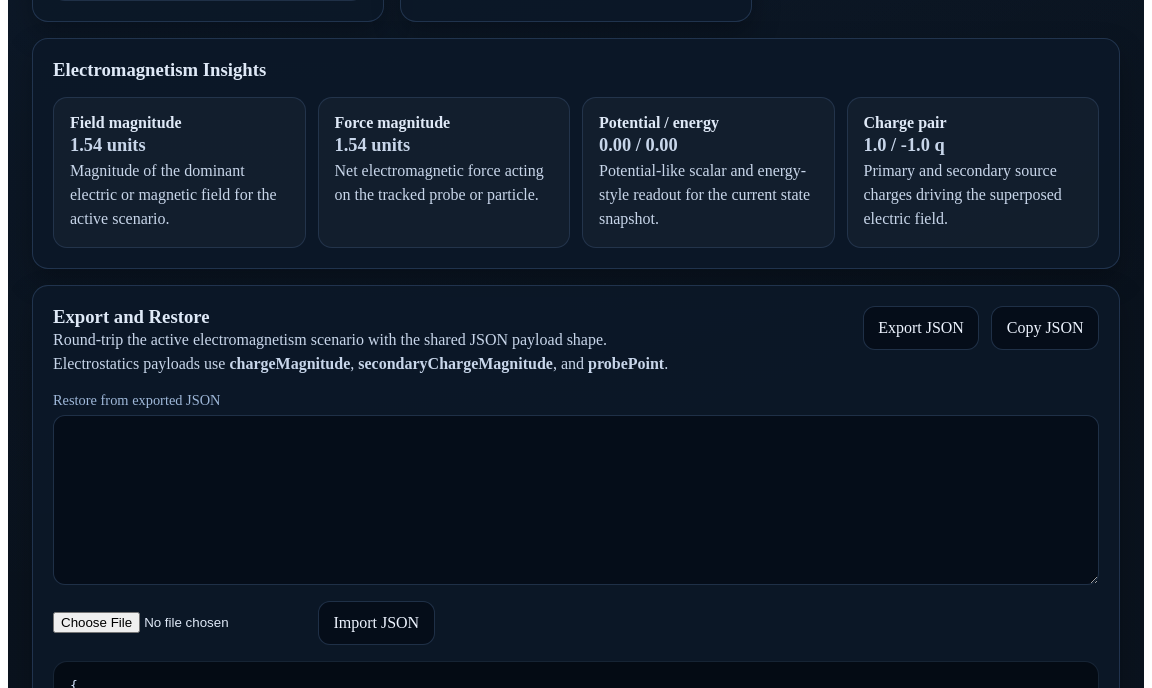
Test case: ElectromagnetismPageComponent › exports the active scenario as a downloadable JSON file
(page scrolled)
Click the button "Export JSON" at (921, 328), box [863,306,979,350]
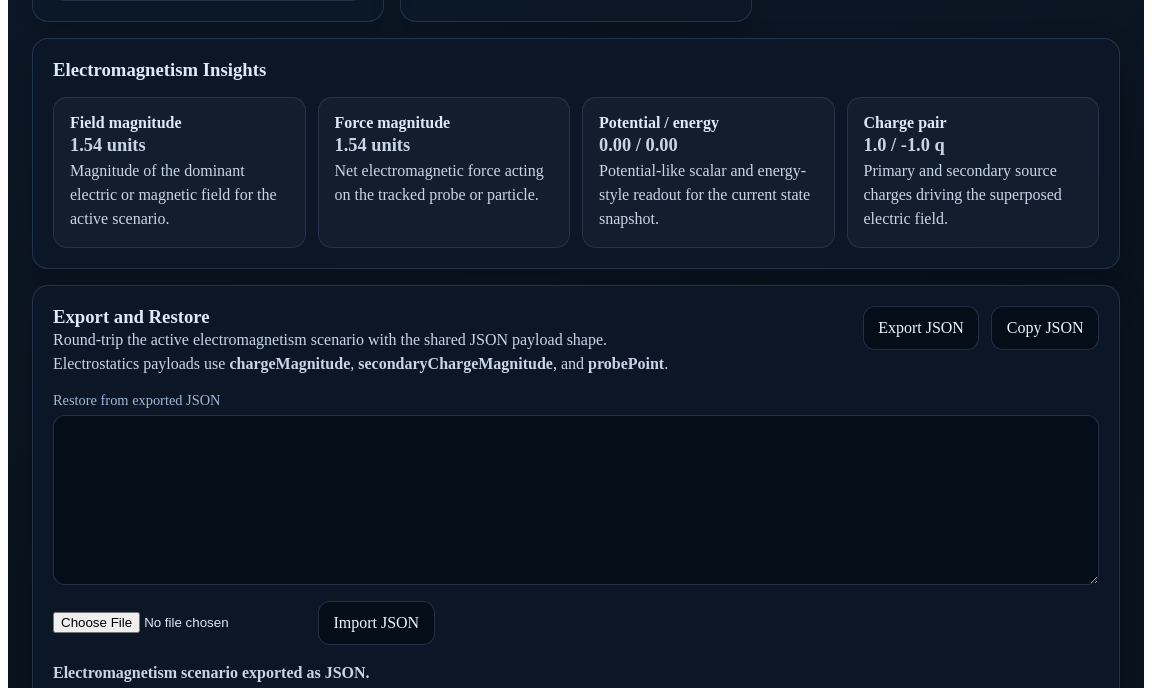
Expected: the text "Electromagnetism scenario exported as JSON." is shown, [53,664,370,681]
